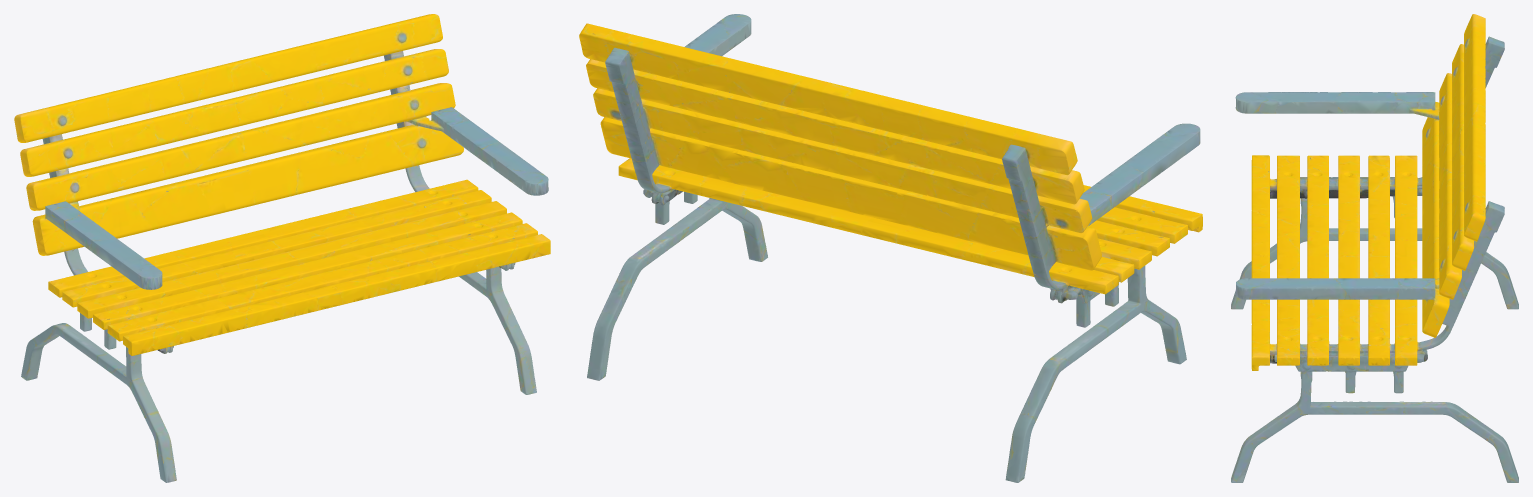
The model's file is bench.glb.
3 views of the same model, side by side, from view 1: azimuth 30°, elevation 25°; view 2: azimuth 150°, elevation 25°; view 3: azimuth 270°, elevation 25° (orthographic). The views are drawn at different scales.
Parts seen in each view (by area): view 1: Mesh_0.001; view 2: Mesh_0.001; view 3: Mesh_0.001.
Part boxes in pixels (left/top/right/bottom): Mesh_0.001: left=14, top=14, right=550, bottom=482; Mesh_0.001: left=579, top=14, right=1202, bottom=482; Mesh_0.001: left=1231, top=14, right=1518, bottom=482.
Bounding box in the file's own units: 1.55 × 1 × 0.9329.
Materials: 1 (1 with a texture image).
